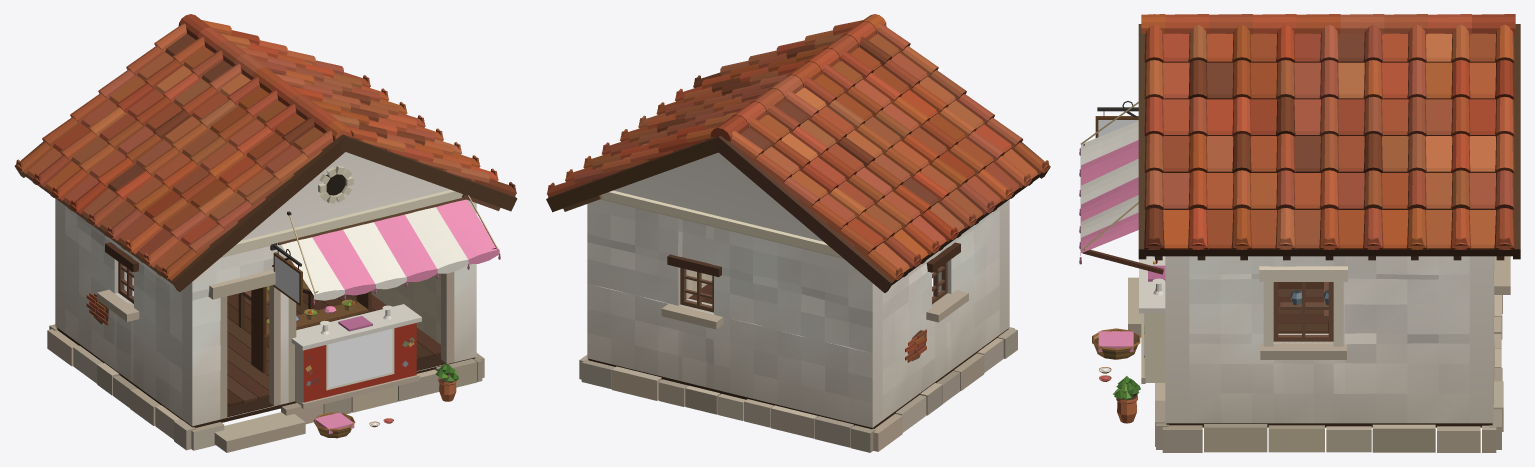
The model's file is shop_catshop.glb.
3 renders of one model, left to right at view 1: azimuth 30°, elevation 25°; view 2: azimuth 150°, elevation 25°; view 3: azimuth 270°, elevation 25°, orthographic. The views are drawn at different scales.
Visible parts, largest first — view 1: House, Walls, Rooms; view 2: House, Walls; view 3: House, Walls, Rooms.
Part boxes in pixels (<box>): House: <box>14,14,517,452</box>; Walls: <box>55,152,476,426</box>; Rooms: <box>132,272,440,406</box>; House: <box>546,14,1050,452</box>; Walls: <box>587,152,1009,427</box>; House: <box>1079,14,1520,452</box>; Walls: <box>1165,256,1494,423</box>; Rooms: <box>1278,282,1328,333</box>.
Size of the model in its own units: 4.44 by 3.53 by 4.03.
8 materials, 8 textured.
